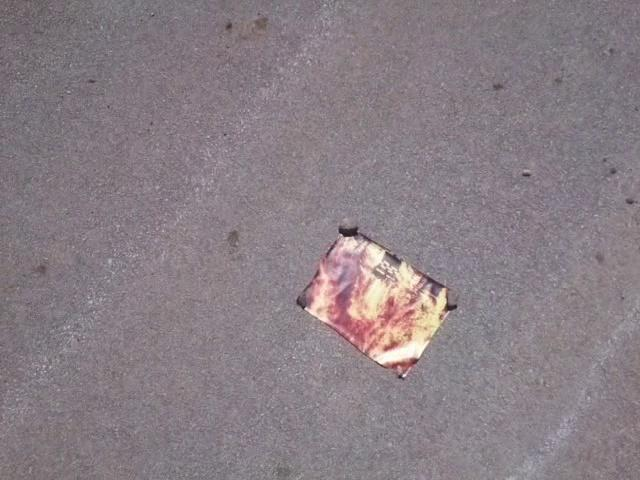fire-poster: (293, 218, 457, 381)
